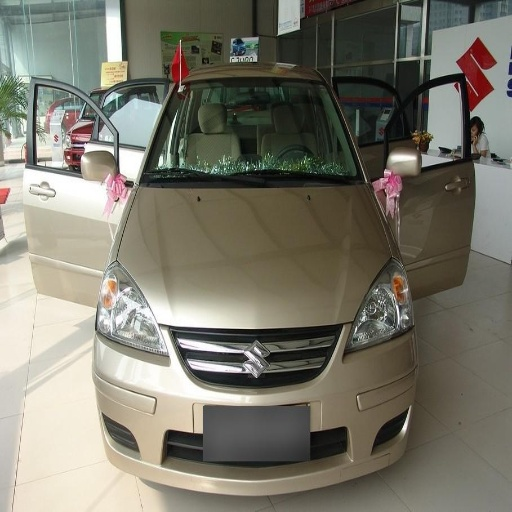front_bumper: (95, 322, 416, 498)
front_right_light: (97, 263, 168, 357)
hood: (119, 183, 386, 326)
